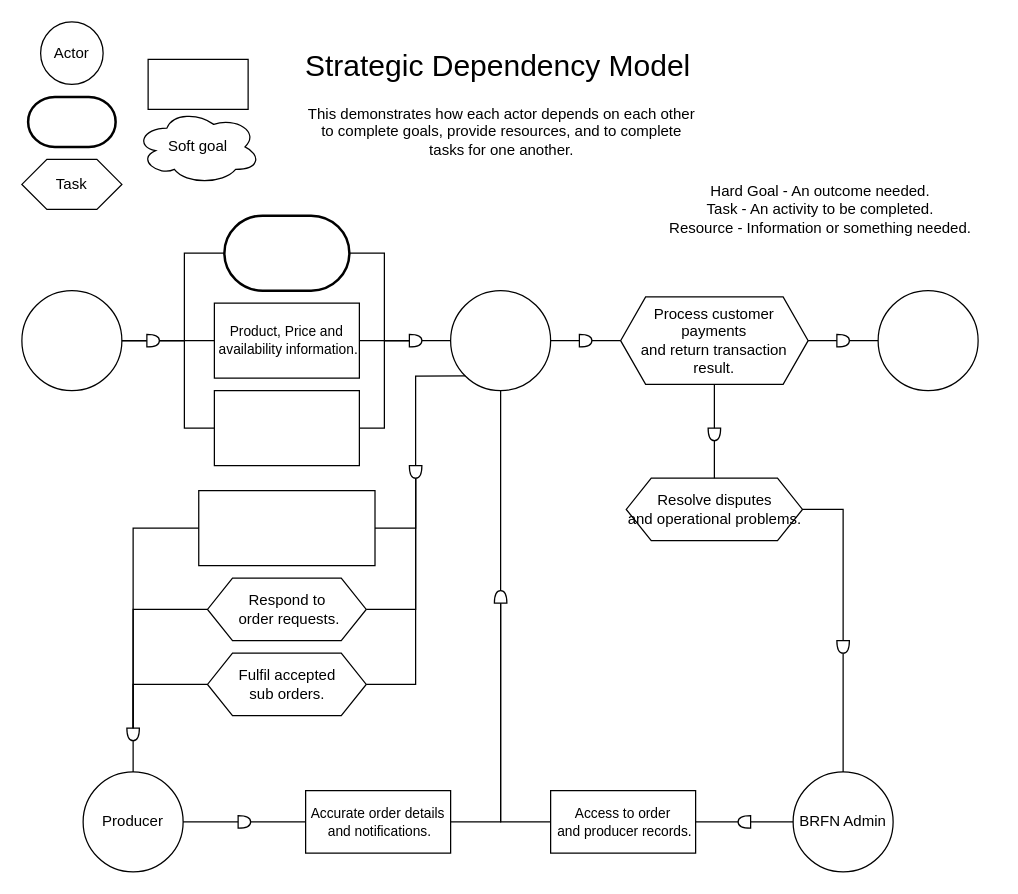
Some shapes in this 1018 by 894 pixel diagram are drawn without their labels. Here are the shapes that lost their labels. From the top down, the centre of each, then its label:
the point at 197,83: Resource
the point at 71,121: Hard goal
the point at 286,252: Browse and place multi-vendor orders.
the point at 71,340: Customer
the point at 500,340: BRFN Marketplace
the point at 927,340: Payment service
the point at 286,427: Order confirmations and updates.
